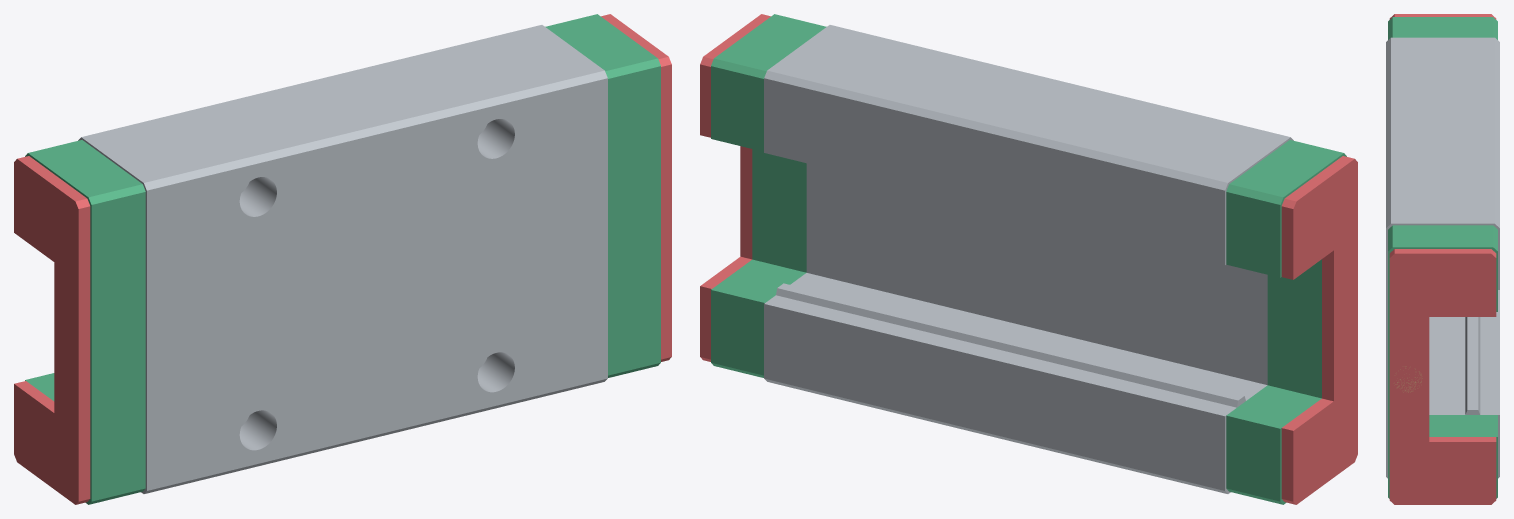
The picture shows the model from 3 angles, left to right: view 1: azimuth 30°, elevation 25°; view 2: azimuth 150°, elevation 25°; view 3: azimuth 270°, elevation 25°; orthographic projection. The views are drawn at different scales.
Visible parts, largest first — view 1: steel_saddle, endcap_neg_x, endcap_pos_x, wiper_neg_x, wiper_pos_x; view 2: steel_saddle, endcap_neg_x, endcap_pos_x, wiper_neg_x, wiper_pos_x; view 3: steel_saddle, wiper_pos_x, endcap_pos_x, endcap_neg_x, wiper_neg_x.
Boxes of the visible parts, <box> form: steel_saddle: <box>78,25,607,493</box>; endcap_neg_x: <box>25,140,145,504</box>; endcap_pos_x: <box>545,14,660,377</box>; wiper_neg_x: <box>14,156,90,504</box>; wiper_pos_x: <box>601,14,671,361</box>; steel_saddle: <box>764,25,1293,493</box>; endcap_neg_x: <box>1226,140,1346,504</box>; endcap_pos_x: <box>711,14,826,377</box>; wiper_neg_x: <box>1281,156,1357,504</box>; wiper_pos_x: <box>700,14,770,361</box>; steel_saddle: <box>1386,37,1499,478</box>; wiper_pos_x: <box>1389,249,1496,504</box>; endcap_pos_x: <box>1388,225,1497,498</box>; endcap_neg_x: <box>1388,17,1497,39</box>; wiper_neg_x: <box>1389,14,1496,19</box>.
Size of the model in its own units: 0.0399 by 0.02 by 0.008.
